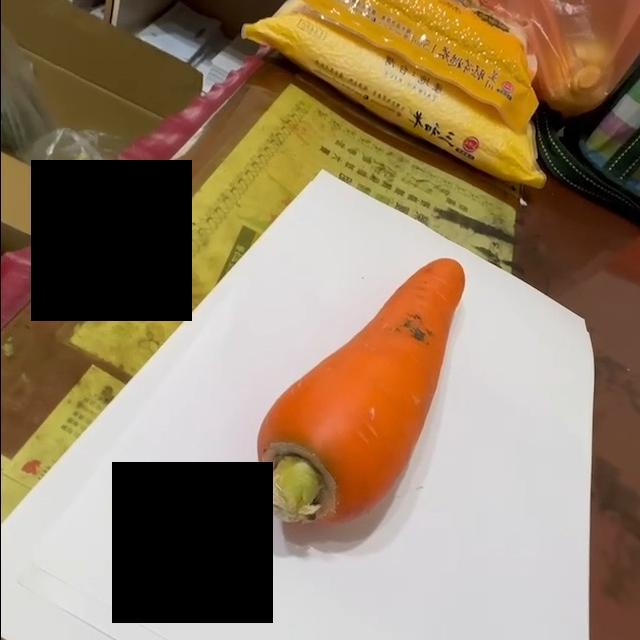carrot: (254, 259, 466, 533)
